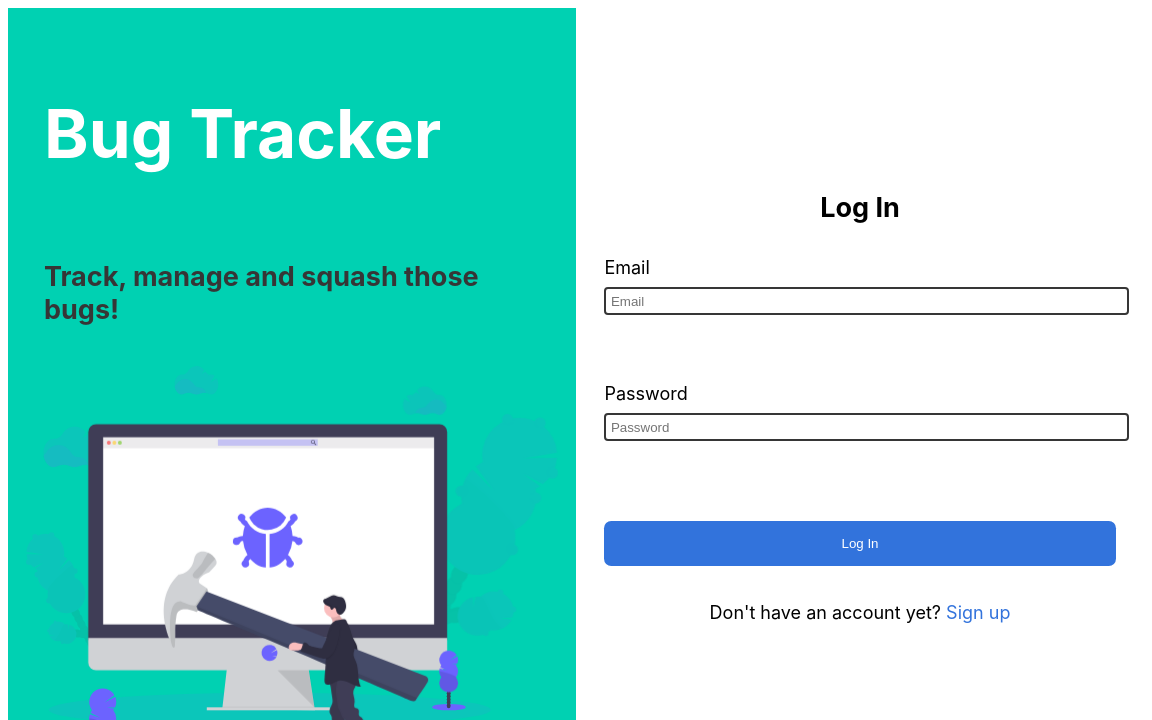
Login Page › form validation - form input requirements
The image size is (1152, 720).
Type "test" into the field with test id "email-input" at {"x": 866, "y": 301}, box [604, 287, 1128, 315]
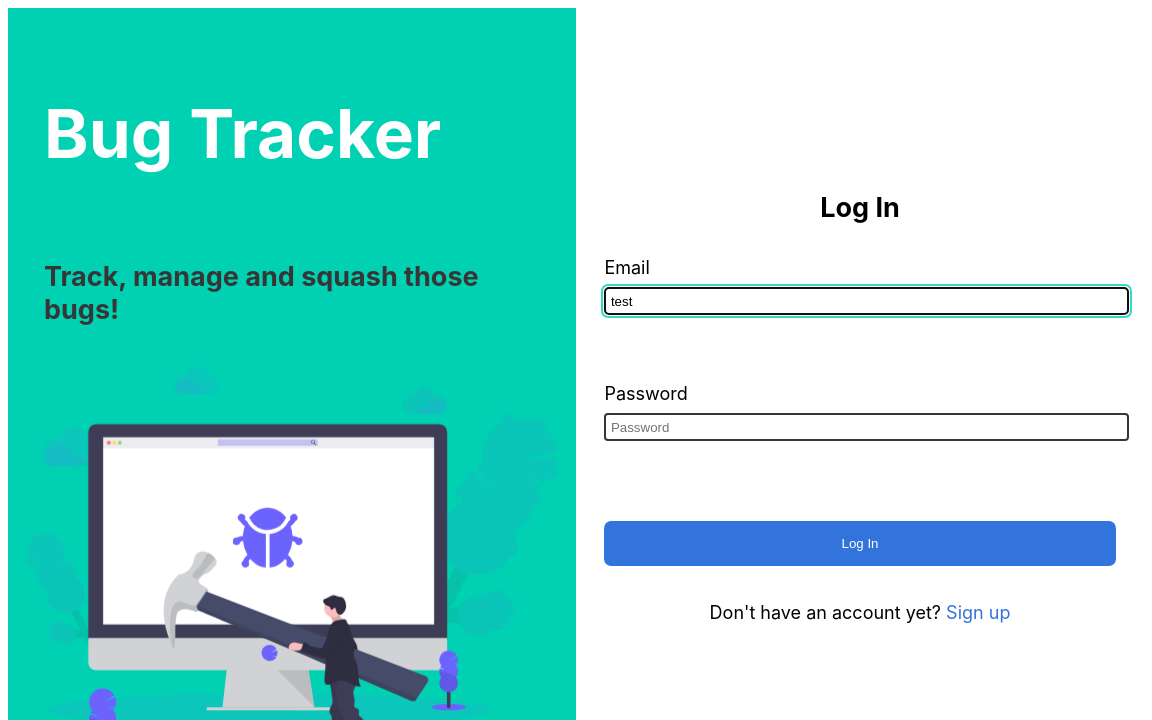
Click the button with test id "submit-login" at {"x": 860, "y": 544}, box [604, 521, 1115, 566]
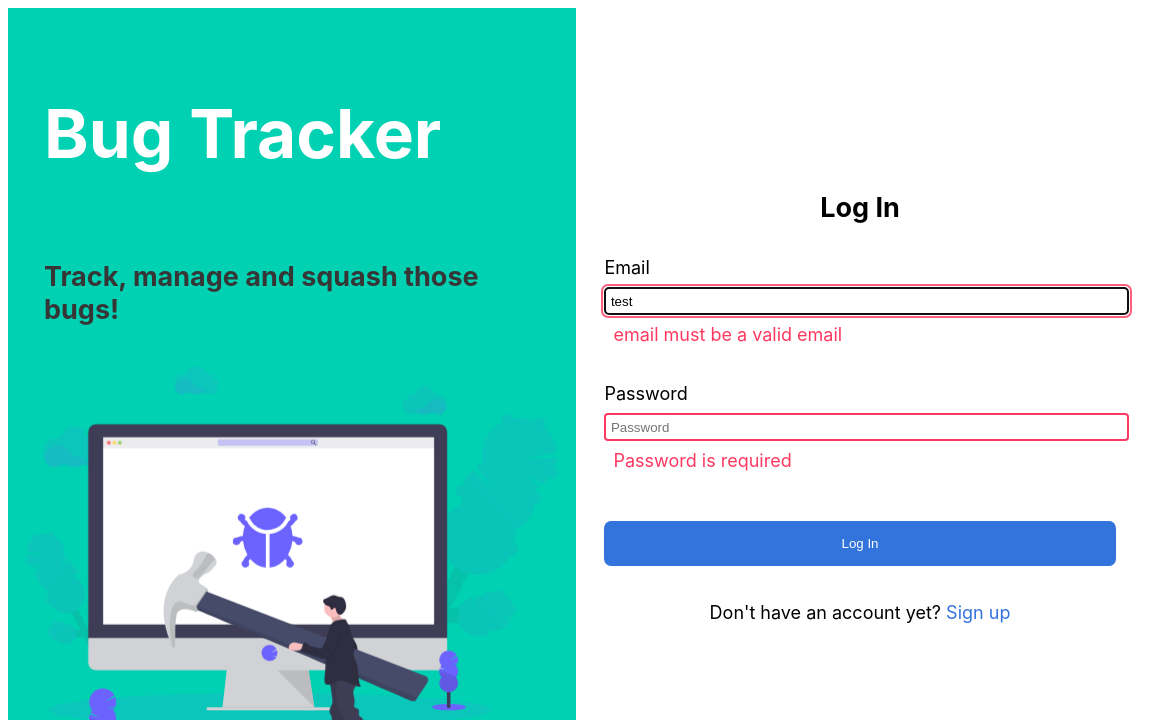
Result: the text "email must be a valid email" is shown at [613, 324, 842, 345]
Result: the text "Password is required" is shown at [613, 450, 792, 471]
Reload the page
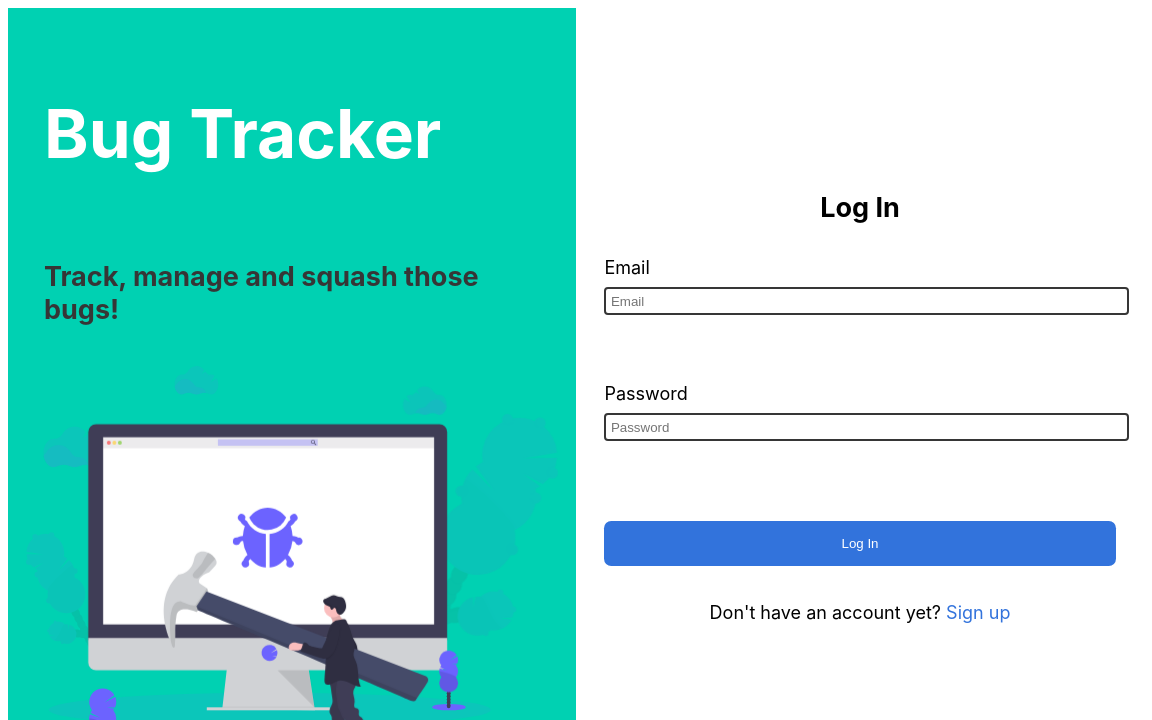
Type "test@test.com" into the field with test id "email-input" at {"x": 866, "y": 301}, box [604, 287, 1128, 315]
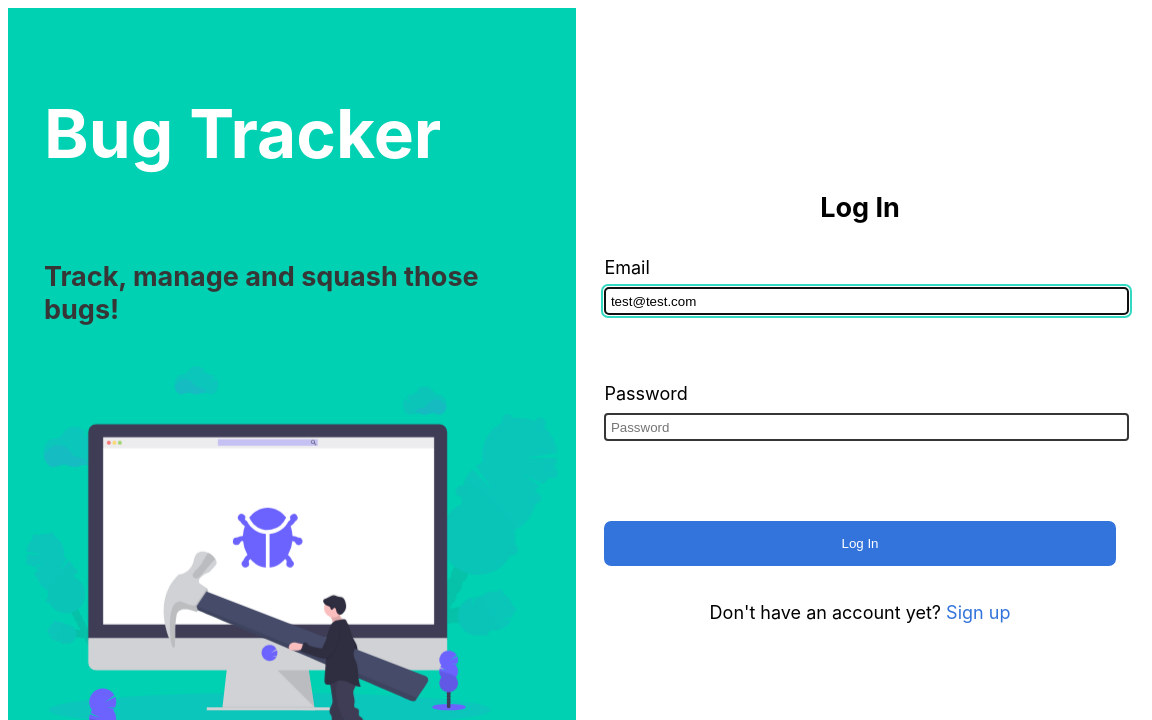
Click the button with test id "submit-login" at {"x": 860, "y": 544}, box [604, 521, 1115, 566]
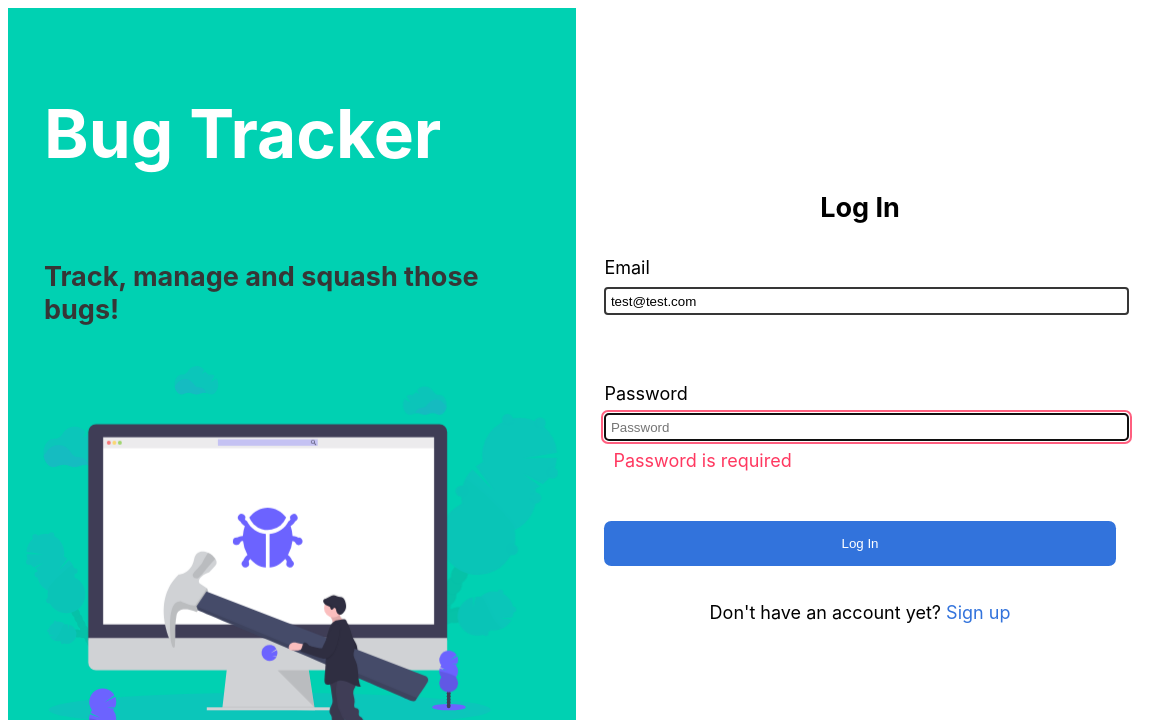
Result: the text "Password is required" is shown at [613, 450, 792, 471]
